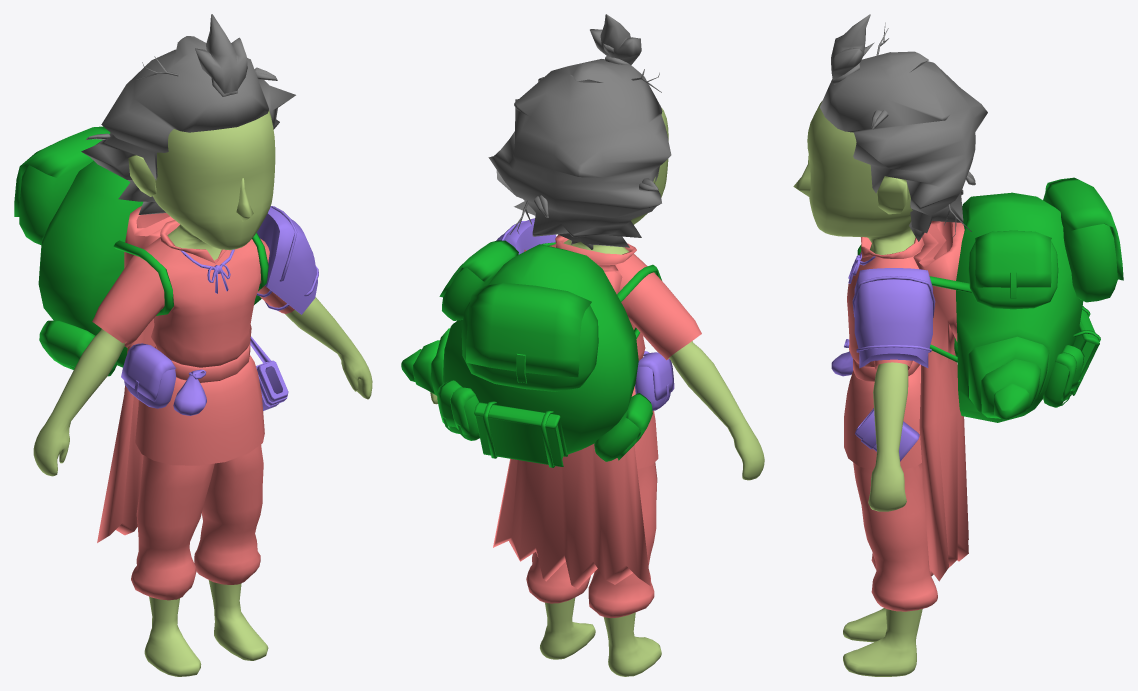
Rendered from Hermit.fbx.
3 views of the same model, side by side, from view 1: azimuth 30°, elevation 25°; view 2: azimuth 150°, elevation 25°; view 3: azimuth 270°, elevation 25° (orthographic).
Parts seen in each view (by area): view 1: Hermit; view 2: Hermit; view 3: Hermit.
Boxes of the visible parts, x1,y1,x2,y2 form: Hermit: (14, 14, 372, 676); Hermit: (401, 14, 764, 676); Hermit: (793, 14, 1123, 676).
Size of the model in its own units: 88.93 by 166 by 77.5.
